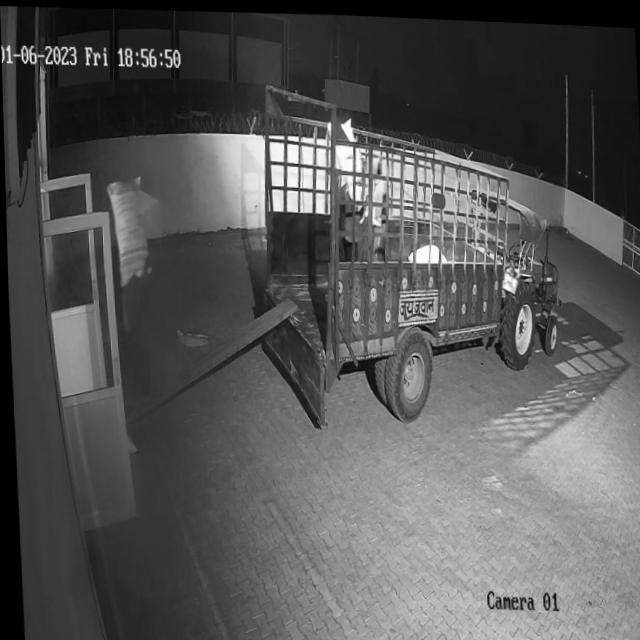sack: (104, 175, 147, 286)
